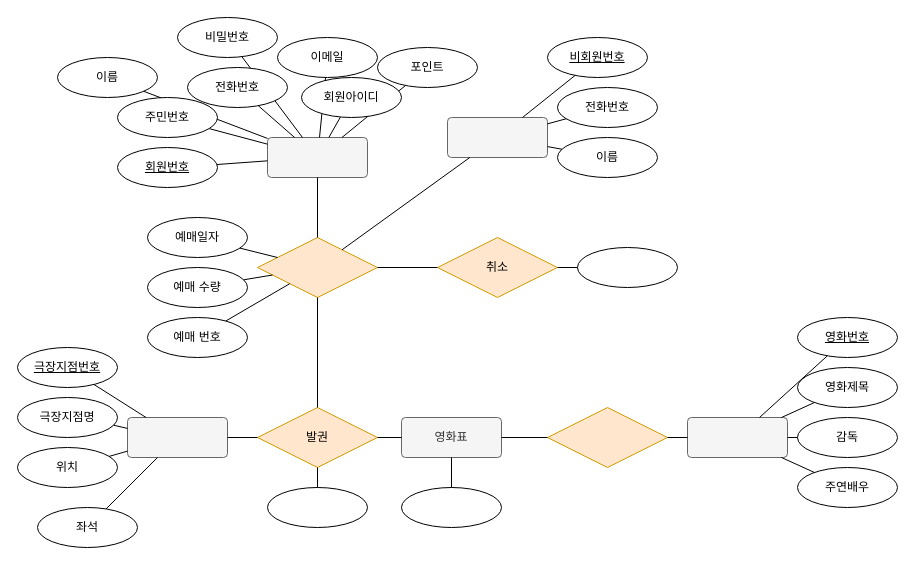
The diagram is 915 pixels wide and 565 high, and some of its shapes have lost their labels. The shapes that lost their labels are listed below. From the top down, each one's box as (x1, y1, x2, y2) in pixels, then its label:
(266, 136, 368, 178): 회원
(446, 116, 548, 158): 비회원
(256, 236, 378, 298): 예매
(576, 246, 678, 288): 취소방법
(126, 416, 228, 458): 극장
(546, 406, 668, 468): 상영
(686, 416, 788, 458): 영화정보
(266, 486, 368, 528): 상영시간
(400, 486, 502, 528): 예매좌석
